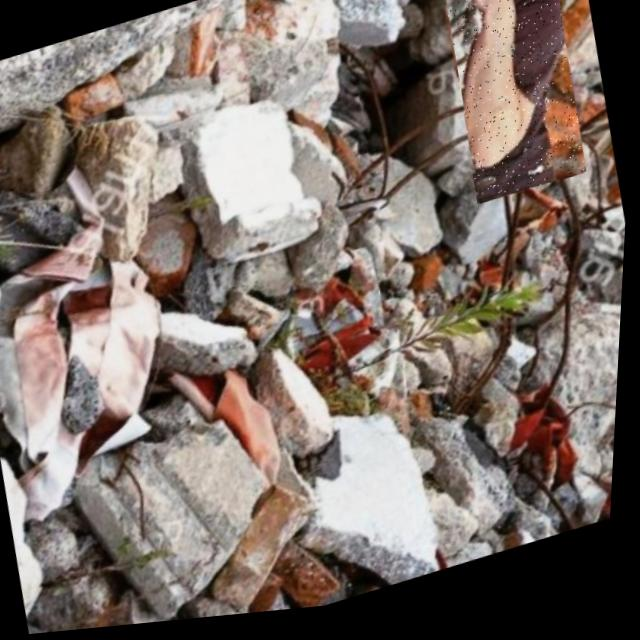Person in Rubble: (429, 0, 598, 218)
